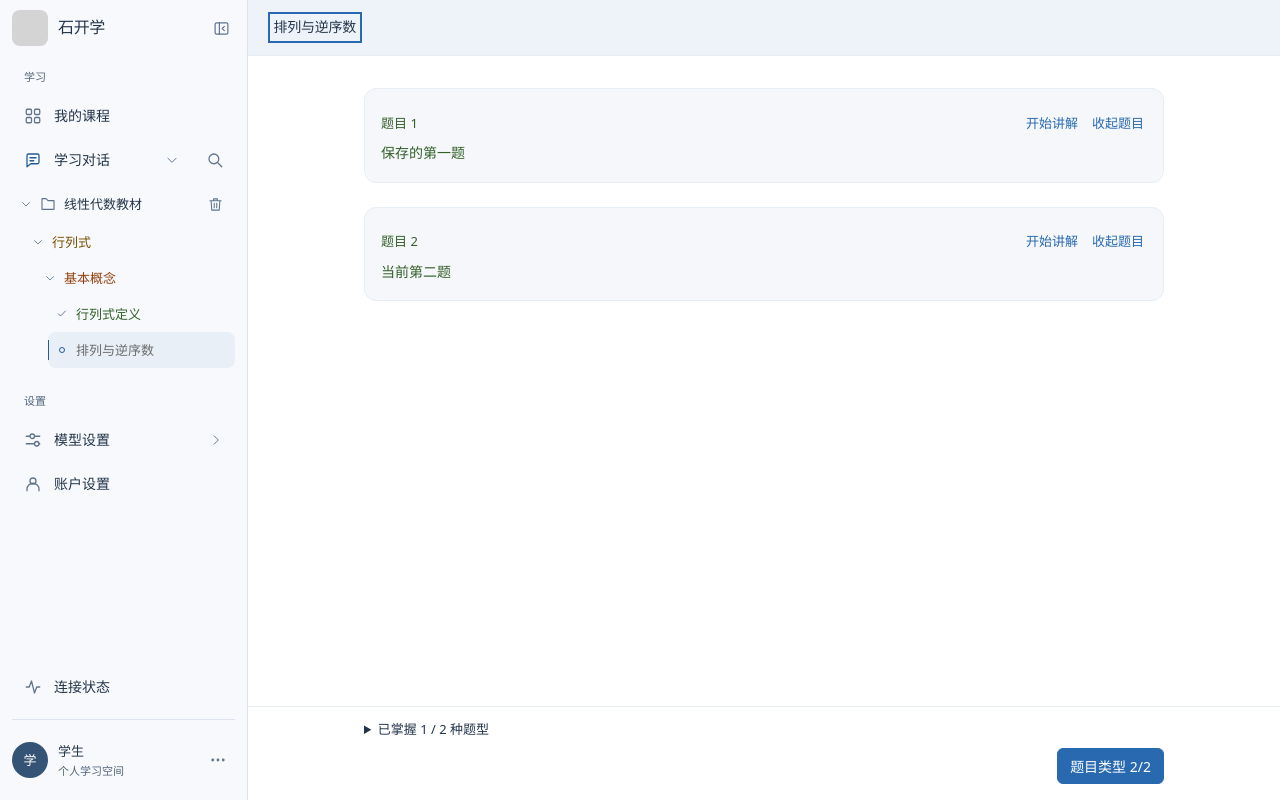
Test: reveals a previously generated question at its original position when its type is selected
The image size is (1280, 800).
Click the button "收起题目" in the row of "题目 1" at [1118, 123], box [1089,105,1147,141]
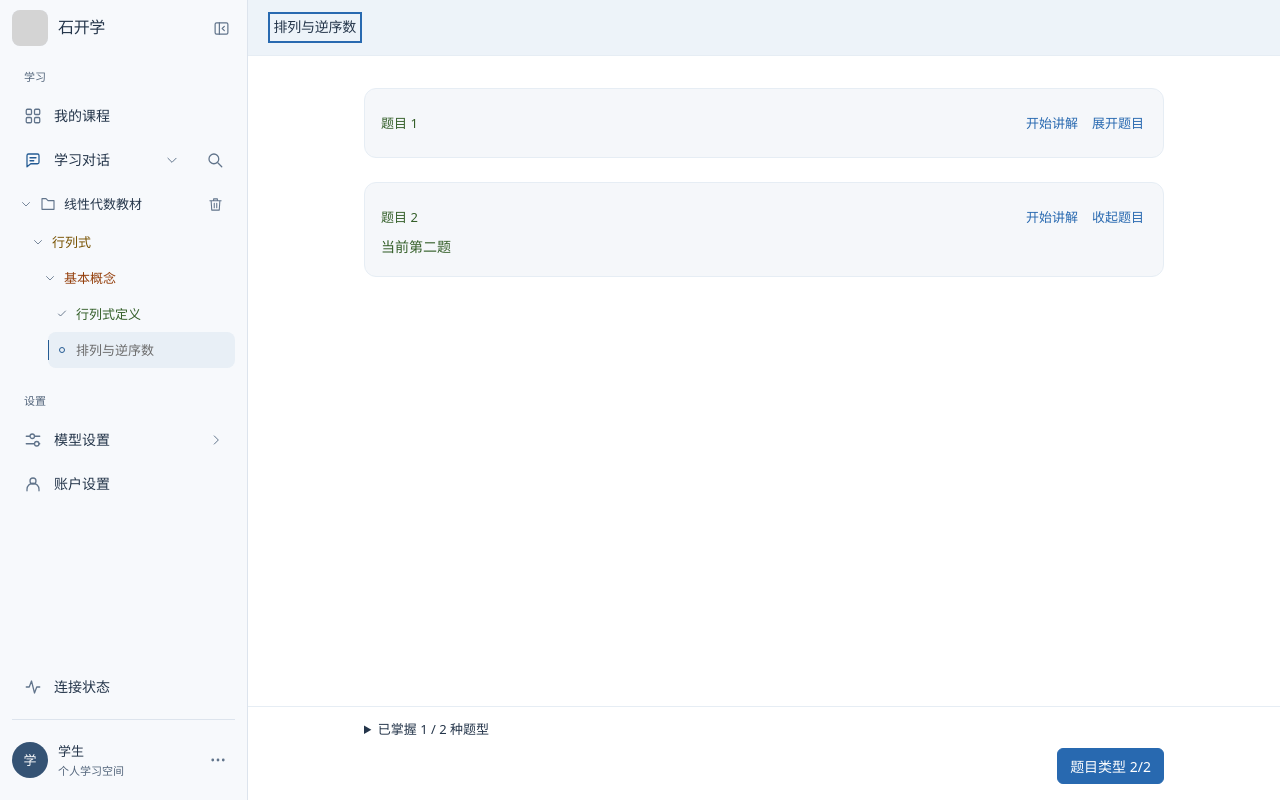
Check: the text "保存的第一题" is gone
Click the button "题目类型 2/2" at [1111, 766], box [1057,748,1164,784]
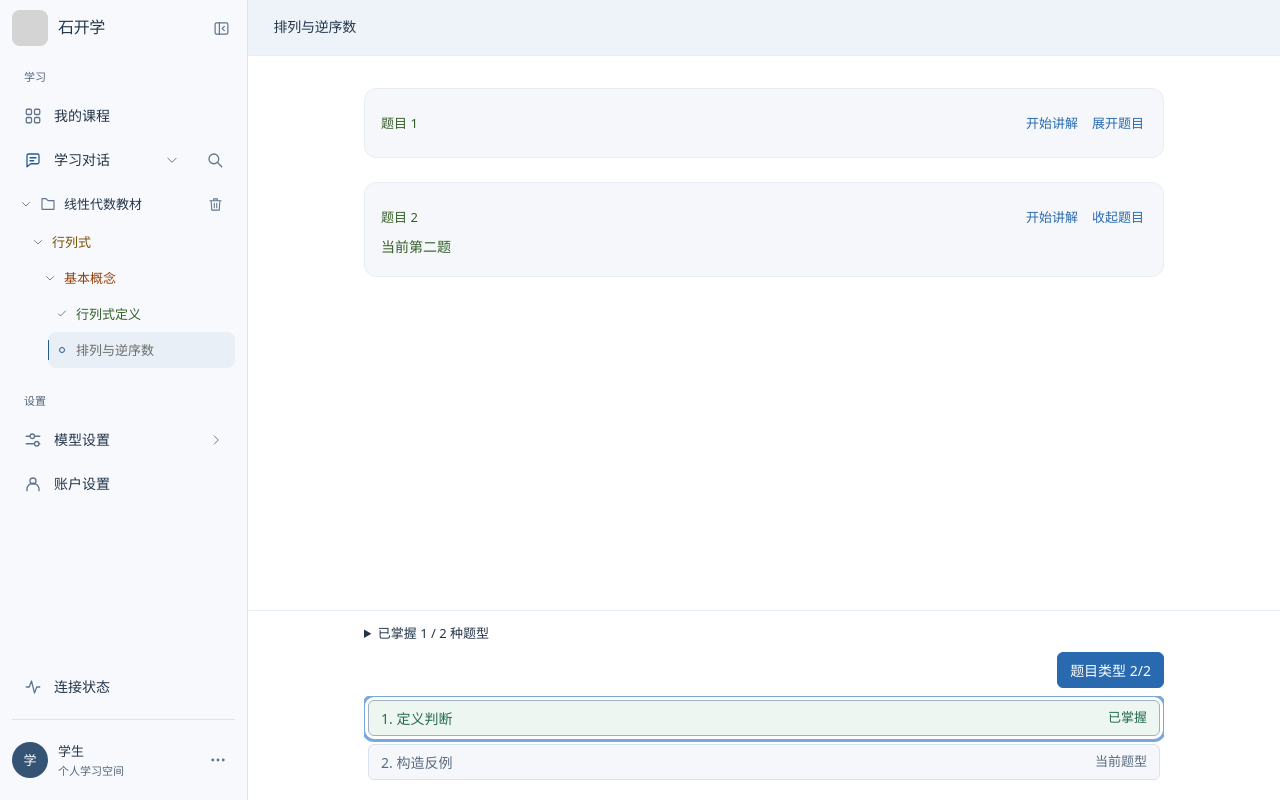
Click the button "1. 定义判断 已掌握" at [424, 718], box [368,700,1160,736]
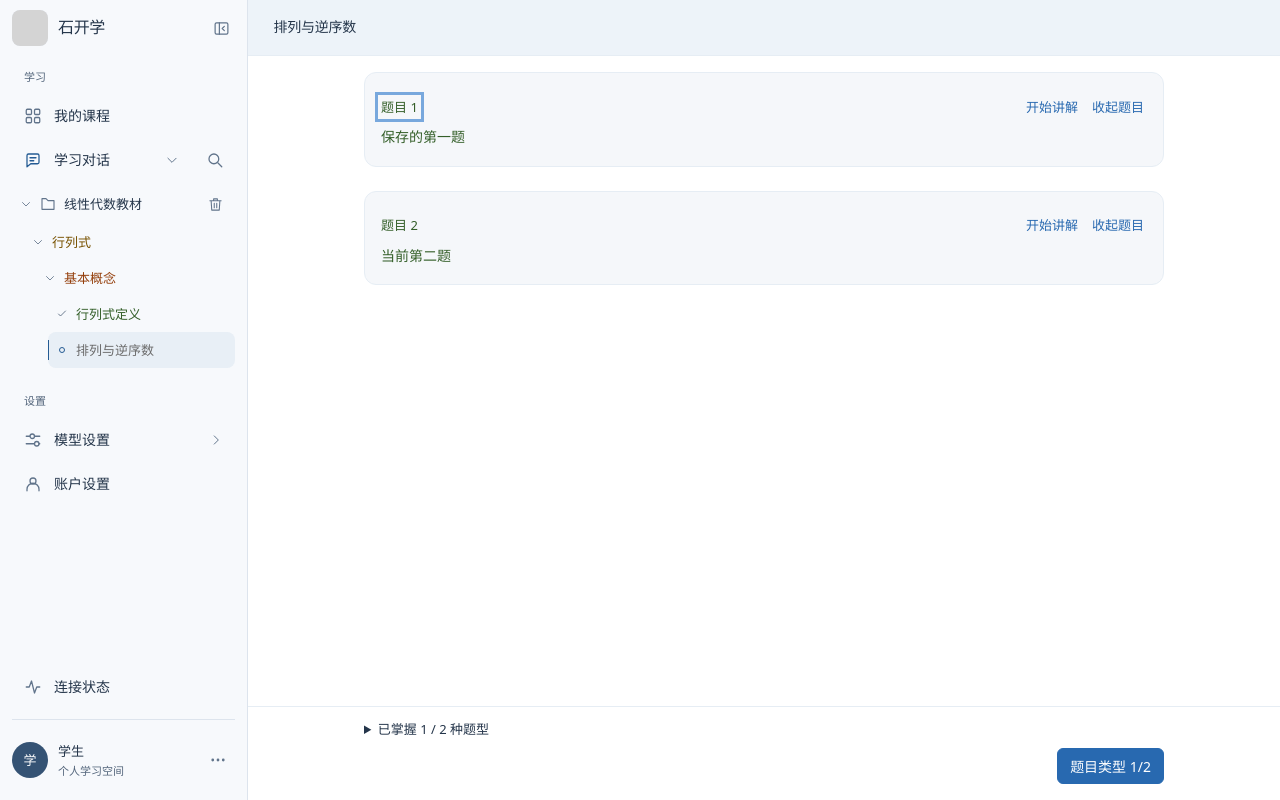
Check: the text "当前第二题" is shown, box [381,246,451,264]
Check: the button "题目类型 1/2" is shown, box [1057,748,1164,784]
Check: the text "保存的第一题" is shown, box [381,127,465,146]
Click the button "开始讲解" in the row of "题目 1" at [1052, 107], box [1023,89,1081,125]
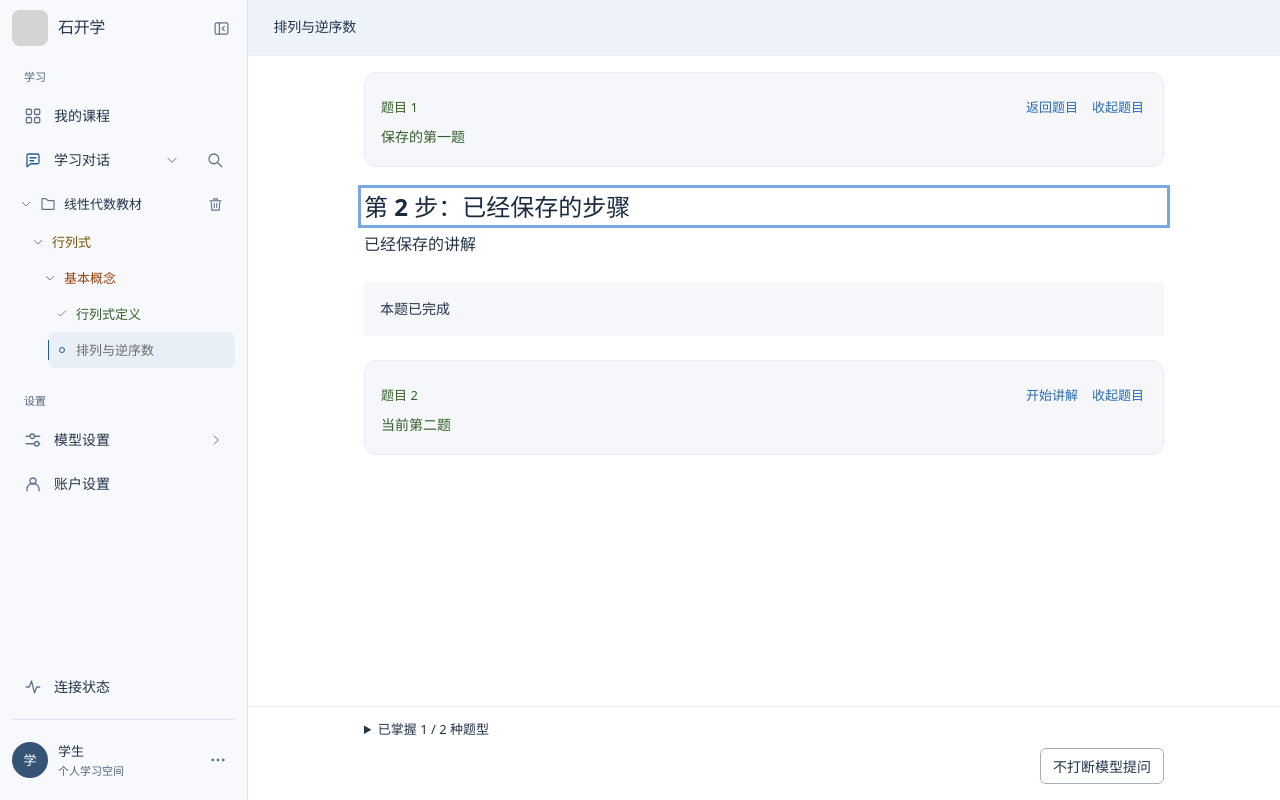
Check: the text "已经保存的讲解" is shown, box [364,233,476,255]
